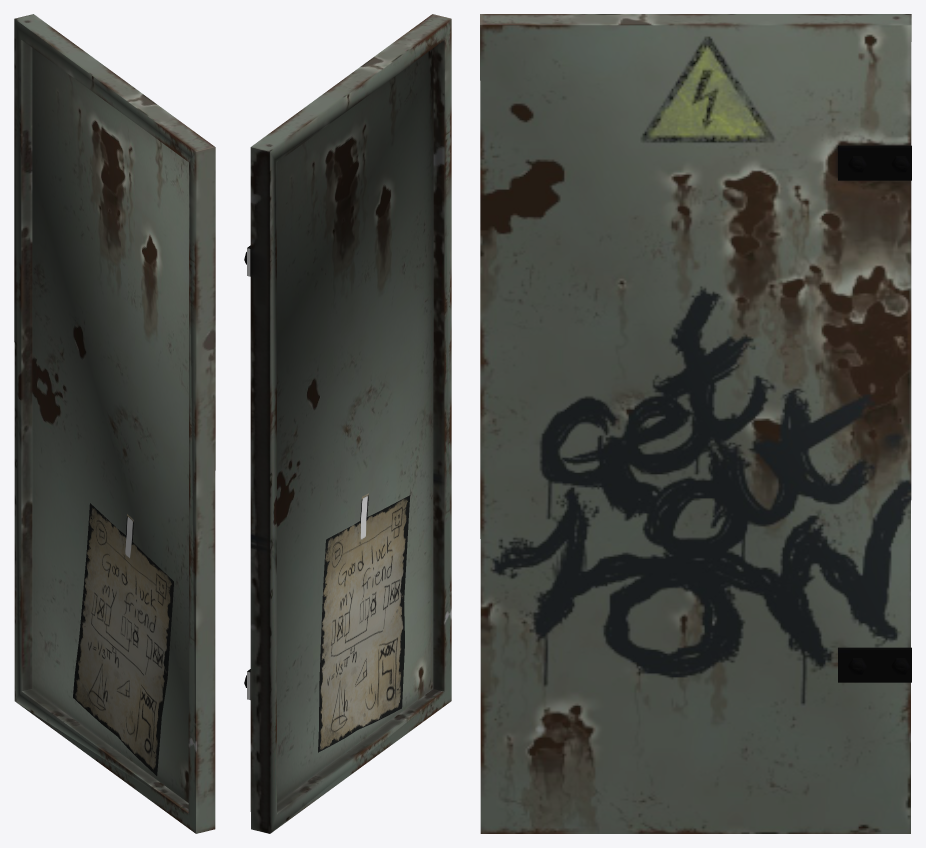
The model's file is FuseDoor.glb.
3 renders of one model, left to right at view 1: azimuth 30°, elevation 25°; view 2: azimuth 150°, elevation 25°; view 3: azimuth 270°, elevation 25°, orthographic. The views are drawn at different scales.
Parts seen in each view (by area): view 1: desirefx.me_001, desirefx.me_003; view 2: desirefx.me_001, desirefx.me_003; view 3: desirefx.me_001.
Part boxes in pixels (x1=…): desirefx.me_001: x1=14, y1=14, x2=215, y2=833; desirefx.me_003: x1=73, y1=503, x2=173, y2=775; desirefx.me_001: x1=244, y1=14, x2=451, y2=833; desirefx.me_003: x1=318, y1=493, x2=410, y2=752; desirefx.me_001: x1=480, y1=14, x2=911, y2=833.
Bounding box in the file's own units: 0.00338 × 0.0787 × 0.0381.
Materials: 2 (2 with a texture image).
